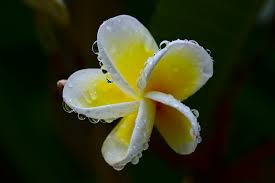frangipani: (62, 13, 210, 169)
